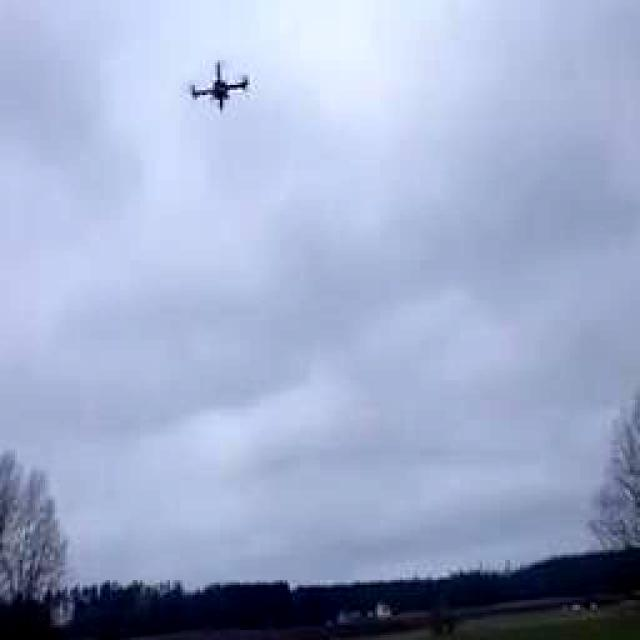bird: (166, 49, 264, 121)
